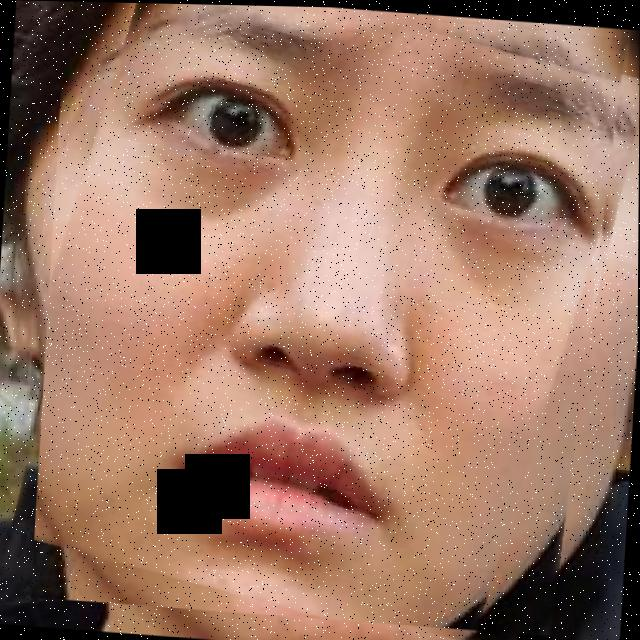fear: (31, 1, 627, 637)
